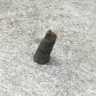Dog: (34, 30, 57, 64)
